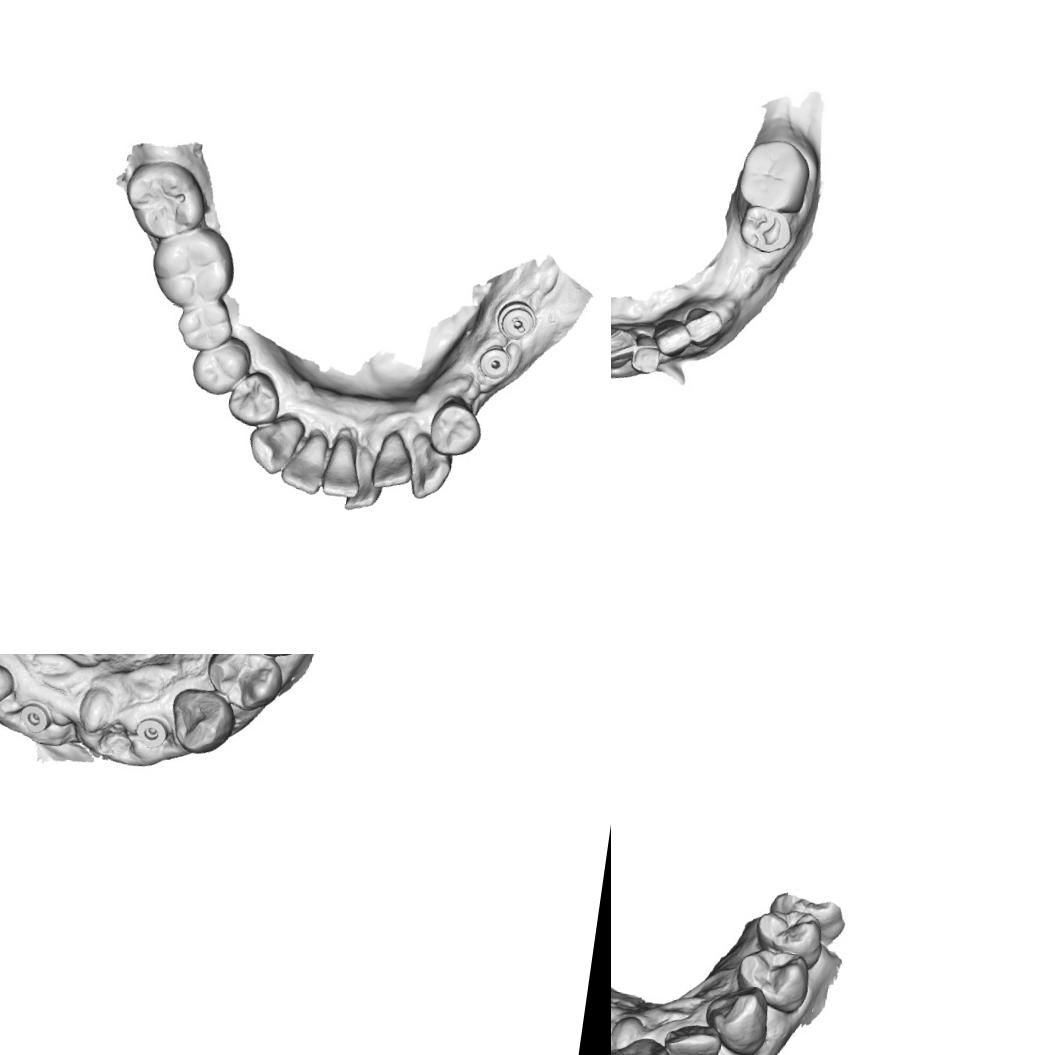canine: (164, 684, 238, 759), (700, 979, 773, 1055), (243, 410, 305, 482), (403, 431, 458, 504), (0, 654, 18, 726)
implant: (473, 342, 517, 384), (15, 698, 54, 737), (132, 714, 171, 752)
implant_minus: (495, 298, 541, 342)
incisor: (278, 428, 331, 496), (318, 432, 369, 502), (342, 448, 389, 516), (369, 430, 419, 493), (627, 324, 673, 380), (659, 1018, 724, 1055), (679, 302, 728, 350), (650, 314, 696, 362), (611, 317, 640, 372), (611, 1031, 676, 1055)
molar: (150, 226, 238, 311), (732, 134, 816, 218), (120, 162, 204, 242), (172, 297, 236, 360)
premolar: (732, 942, 813, 1016), (199, 654, 289, 717), (750, 904, 826, 973), (186, 331, 256, 400), (223, 367, 285, 433), (426, 394, 487, 460), (735, 204, 796, 258)
